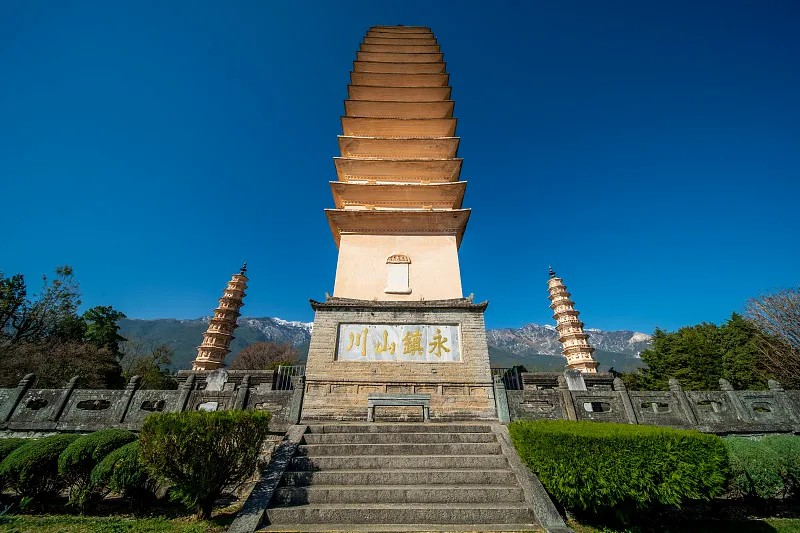ThreePagoda: (303, 24, 496, 420)
